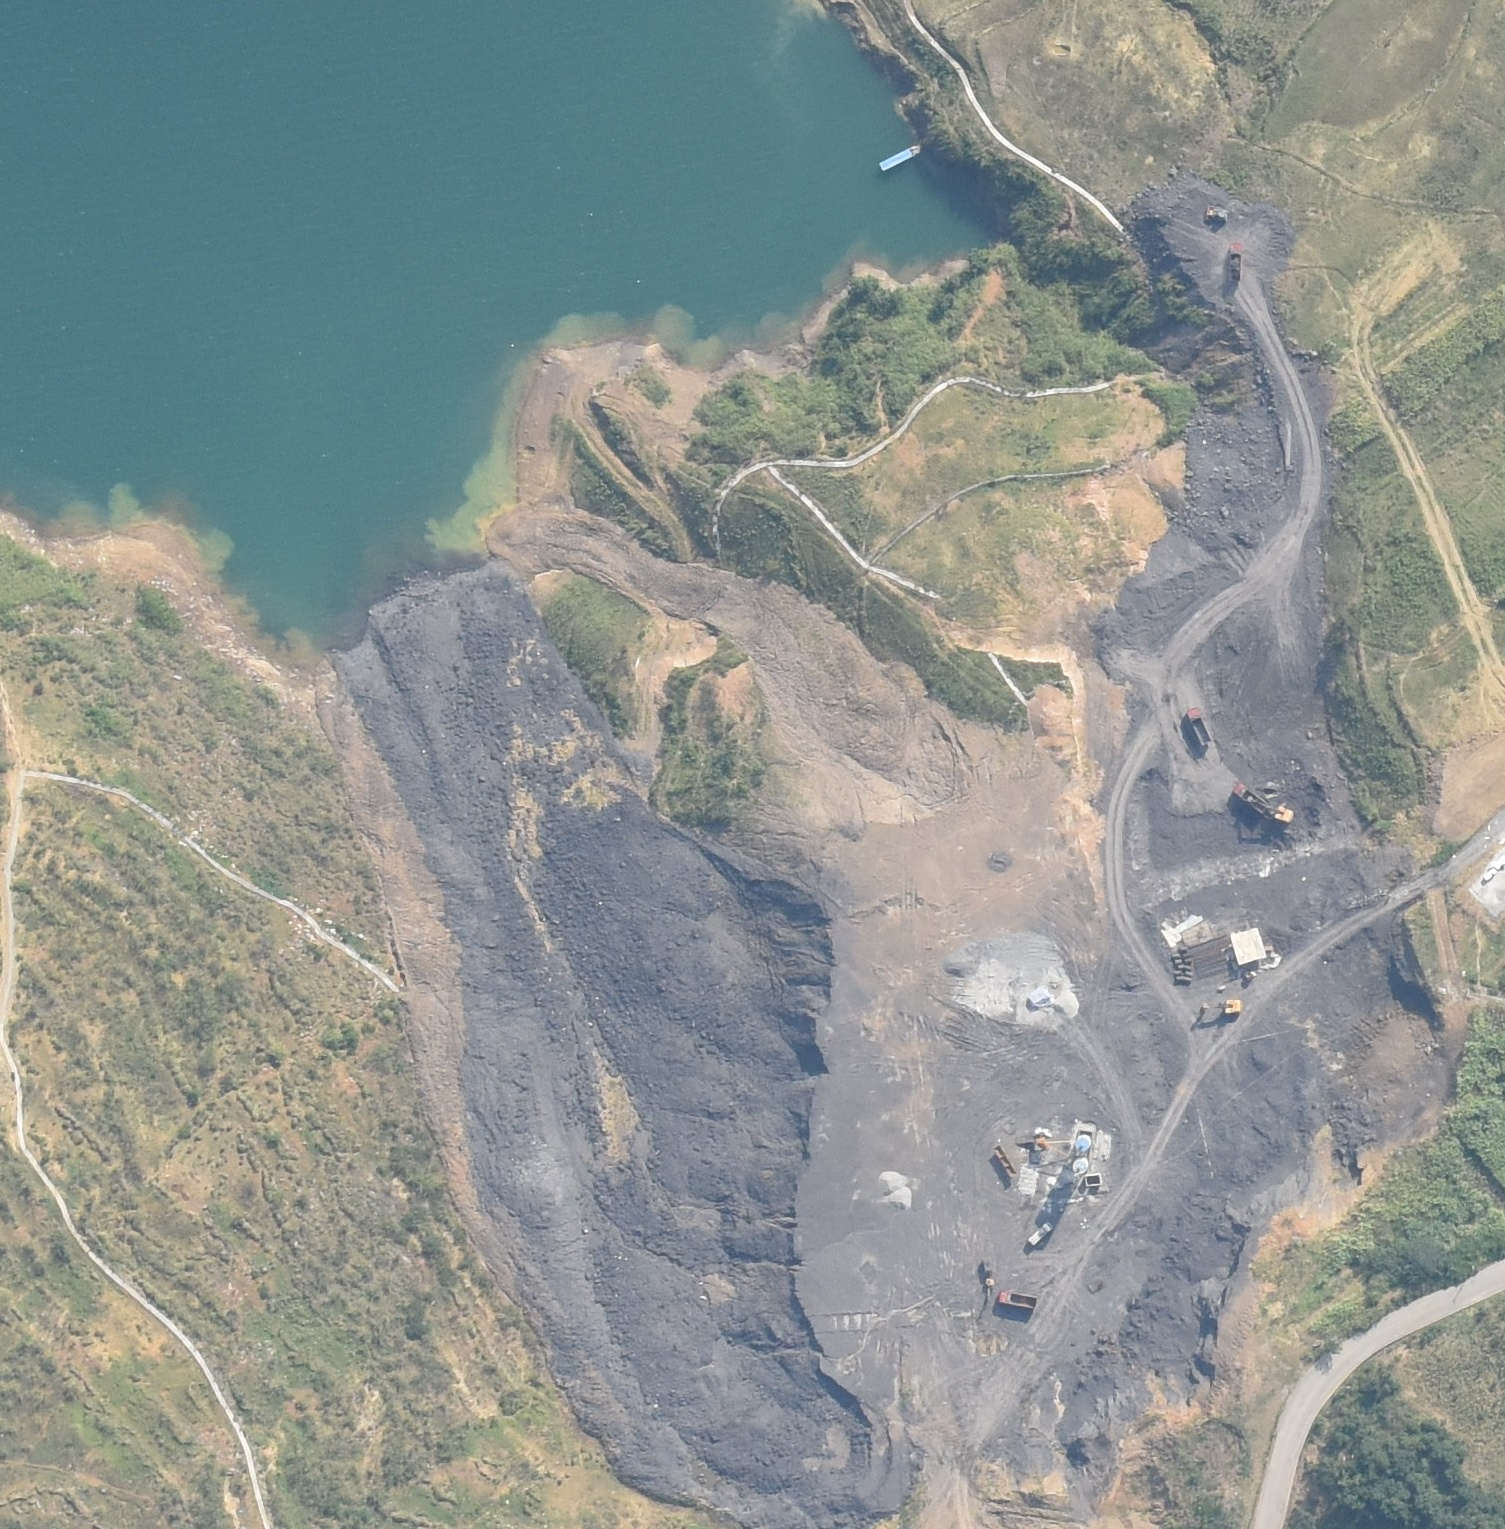building: (1229, 927, 1268, 964)
quarry: (333, 170, 1407, 1504)
ship: (877, 144, 921, 171)
vehicle: (1231, 782, 1270, 814), (1186, 707, 1213, 748), (999, 1290, 1037, 1310), (1027, 1222, 1053, 1251), (1228, 242, 1243, 282)
